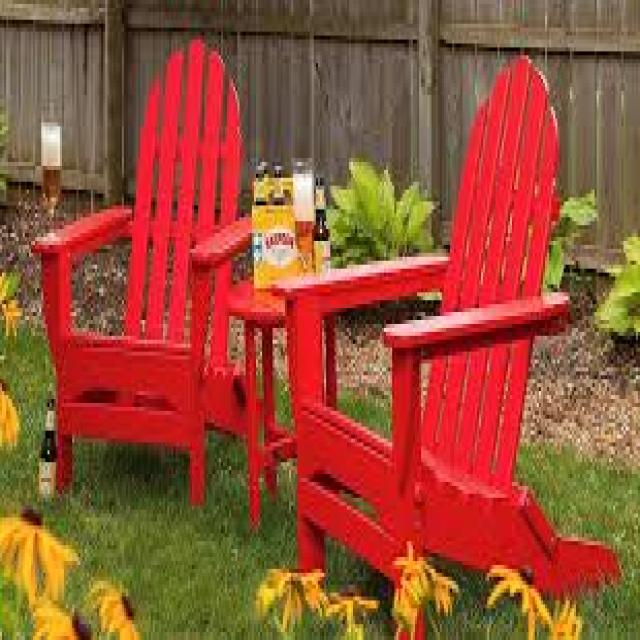chair: (268, 13, 634, 637), (0, 16, 270, 544)
